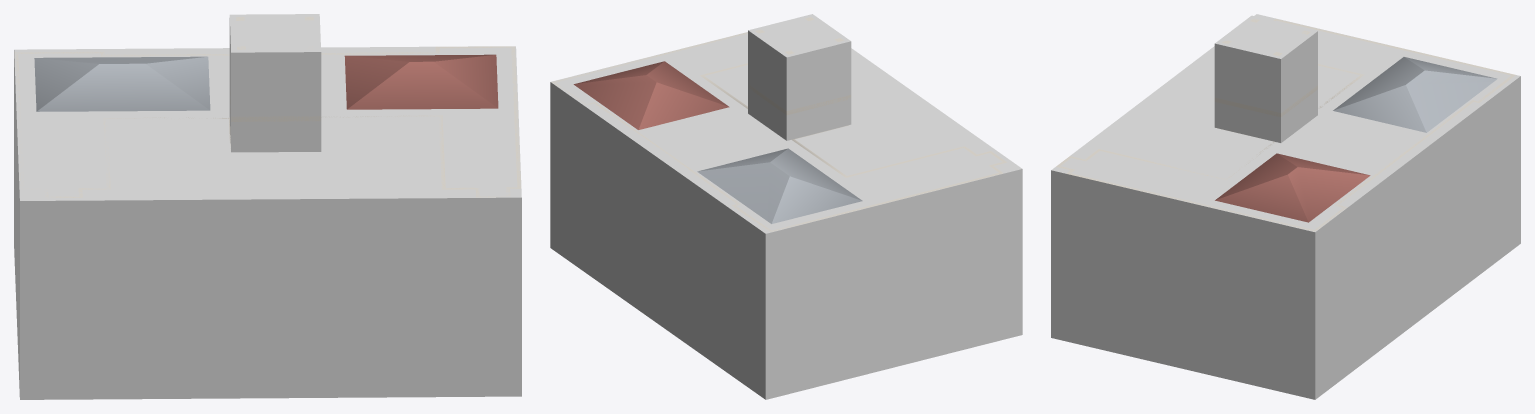
The model's file is palacio.glb.
3 views of the same model, side by side, from view 1: azimuth 30°, elevation 25°; view 2: azimuth 150°, elevation 25°; view 3: azimuth 270°, elevation 25° (orthographic). The views are drawn at different scales.
Parts seen in each view (by area): view 1: bulto-palacio, sitio, bulto-torre; view 2: bulto-palacio, sitio, bulto-torre; view 3: bulto-palacio, sitio, bulto-torre.
Part boxes in pixels (bbox=[...]): bulto-palacio: bbox=[14, 46, 521, 399]; sitio: bbox=[14, 16, 521, 197]; bulto-torre: bbox=[229, 14, 321, 152]; bulto-palacio: bbox=[550, 32, 1022, 399]; sitio: bbox=[551, 17, 1006, 231]; bulto-torre: bbox=[748, 14, 851, 140]; bulto-palacio: bbox=[1051, 14, 1520, 399]; sitio: bbox=[1056, 19, 1515, 231]; bulto-torre: bbox=[1214, 15, 1317, 142].
Size of the model in its own units: 76.24 by 41 by 69.31.
